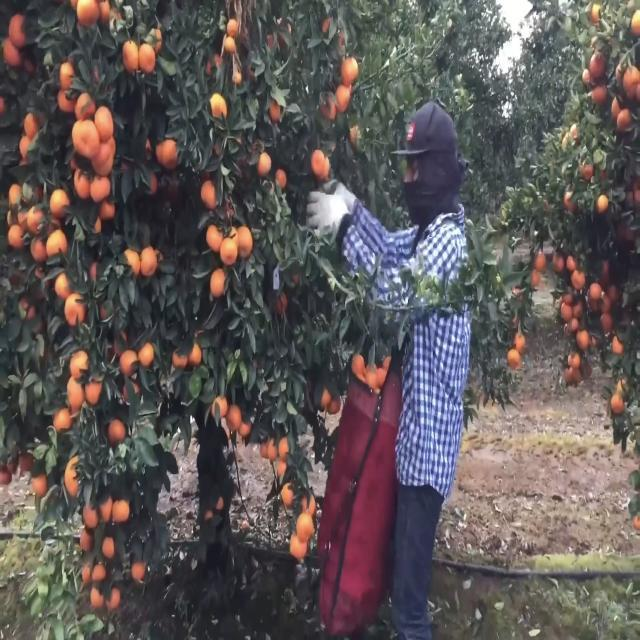Jeruk Sudah Matang: (94, 102, 115, 142), (50, 401, 74, 434), (74, 1, 102, 29), (282, 534, 310, 561), (119, 37, 139, 74), (64, 290, 85, 325), (49, 185, 71, 218), (46, 227, 68, 259), (621, 63, 640, 99), (210, 266, 230, 300), (72, 164, 92, 198), (341, 56, 362, 88), (32, 466, 51, 501), (237, 223, 254, 262), (209, 89, 229, 122), (160, 138, 181, 169), (140, 244, 158, 280), (138, 40, 156, 76), (138, 338, 155, 376), (80, 496, 99, 530), (111, 497, 132, 527), (124, 243, 141, 279), (109, 414, 127, 448), (58, 53, 76, 87), (589, 49, 608, 81), (200, 178, 220, 208), (296, 512, 316, 542), (220, 235, 238, 268), (68, 349, 89, 377), (119, 350, 138, 380), (91, 557, 110, 585), (616, 106, 635, 134), (320, 91, 337, 122), (255, 150, 272, 179), (312, 145, 326, 180), (100, 533, 116, 563), (130, 560, 148, 586), (279, 484, 296, 510), (277, 438, 297, 460), (611, 390, 625, 420), (86, 588, 105, 610), (227, 405, 242, 432), (98, 202, 118, 222), (506, 348, 523, 371), (570, 268, 587, 290), (109, 584, 122, 612), (596, 192, 610, 216), (564, 192, 580, 212), (576, 328, 591, 349), (534, 254, 548, 272), (225, 34, 236, 56)
